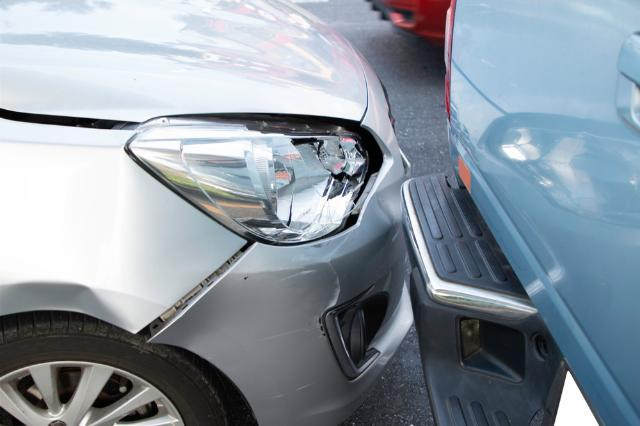dent: (0, 283, 123, 327), (374, 158, 407, 224)
lamp broken: (126, 115, 381, 244)
scratch: (261, 232, 352, 344)
